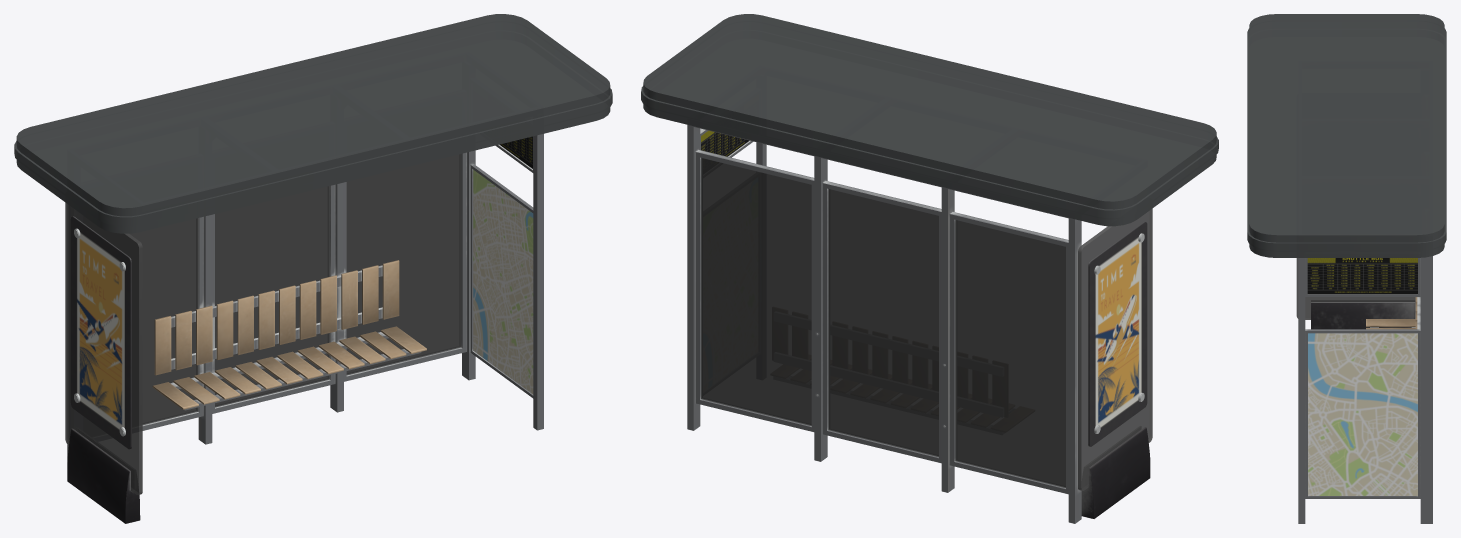
File: shelter_black.glb
3 views of the same model, side by side, from view 1: azimuth 30°, elevation 25°; view 2: azimuth 150°, elevation 25°; view 3: azimuth 270°, elevation 25° (orthographic). The views are drawn at different scales.
Parts seen in each view (by area): view 1: bus_stop_w; view 2: bus_stop_w; view 3: bus_stop_w.
Boxes of the visible parts, bbox=[...] form: bus_stop_w: bbox=[14, 14, 612, 523]; bus_stop_w: bbox=[641, 14, 1218, 523]; bus_stop_w: bbox=[1247, 14, 1446, 523].
Size of the model in its own units: 4.23 by 2.75 by 1.6.
Materials: 1 (1 with a texture image).
